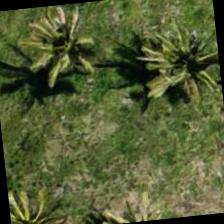Kelapa_Sawit: (125, 10, 224, 110), (13, 1, 110, 90), (7, 177, 87, 223)
